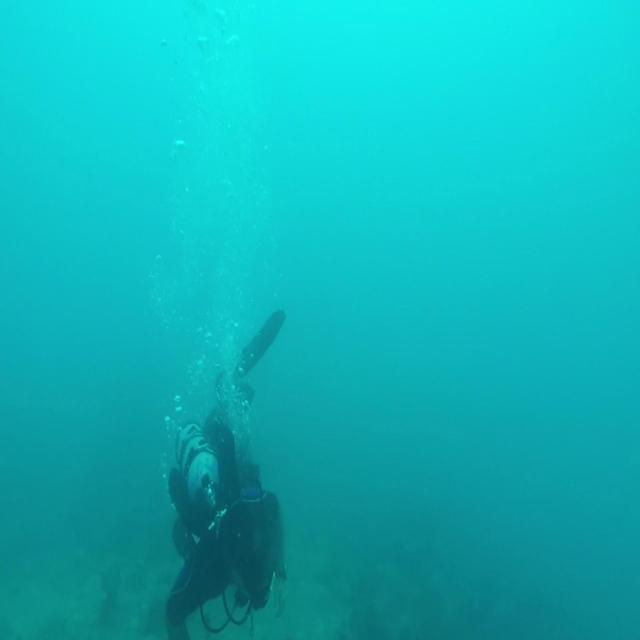human: (164, 306, 288, 637)
